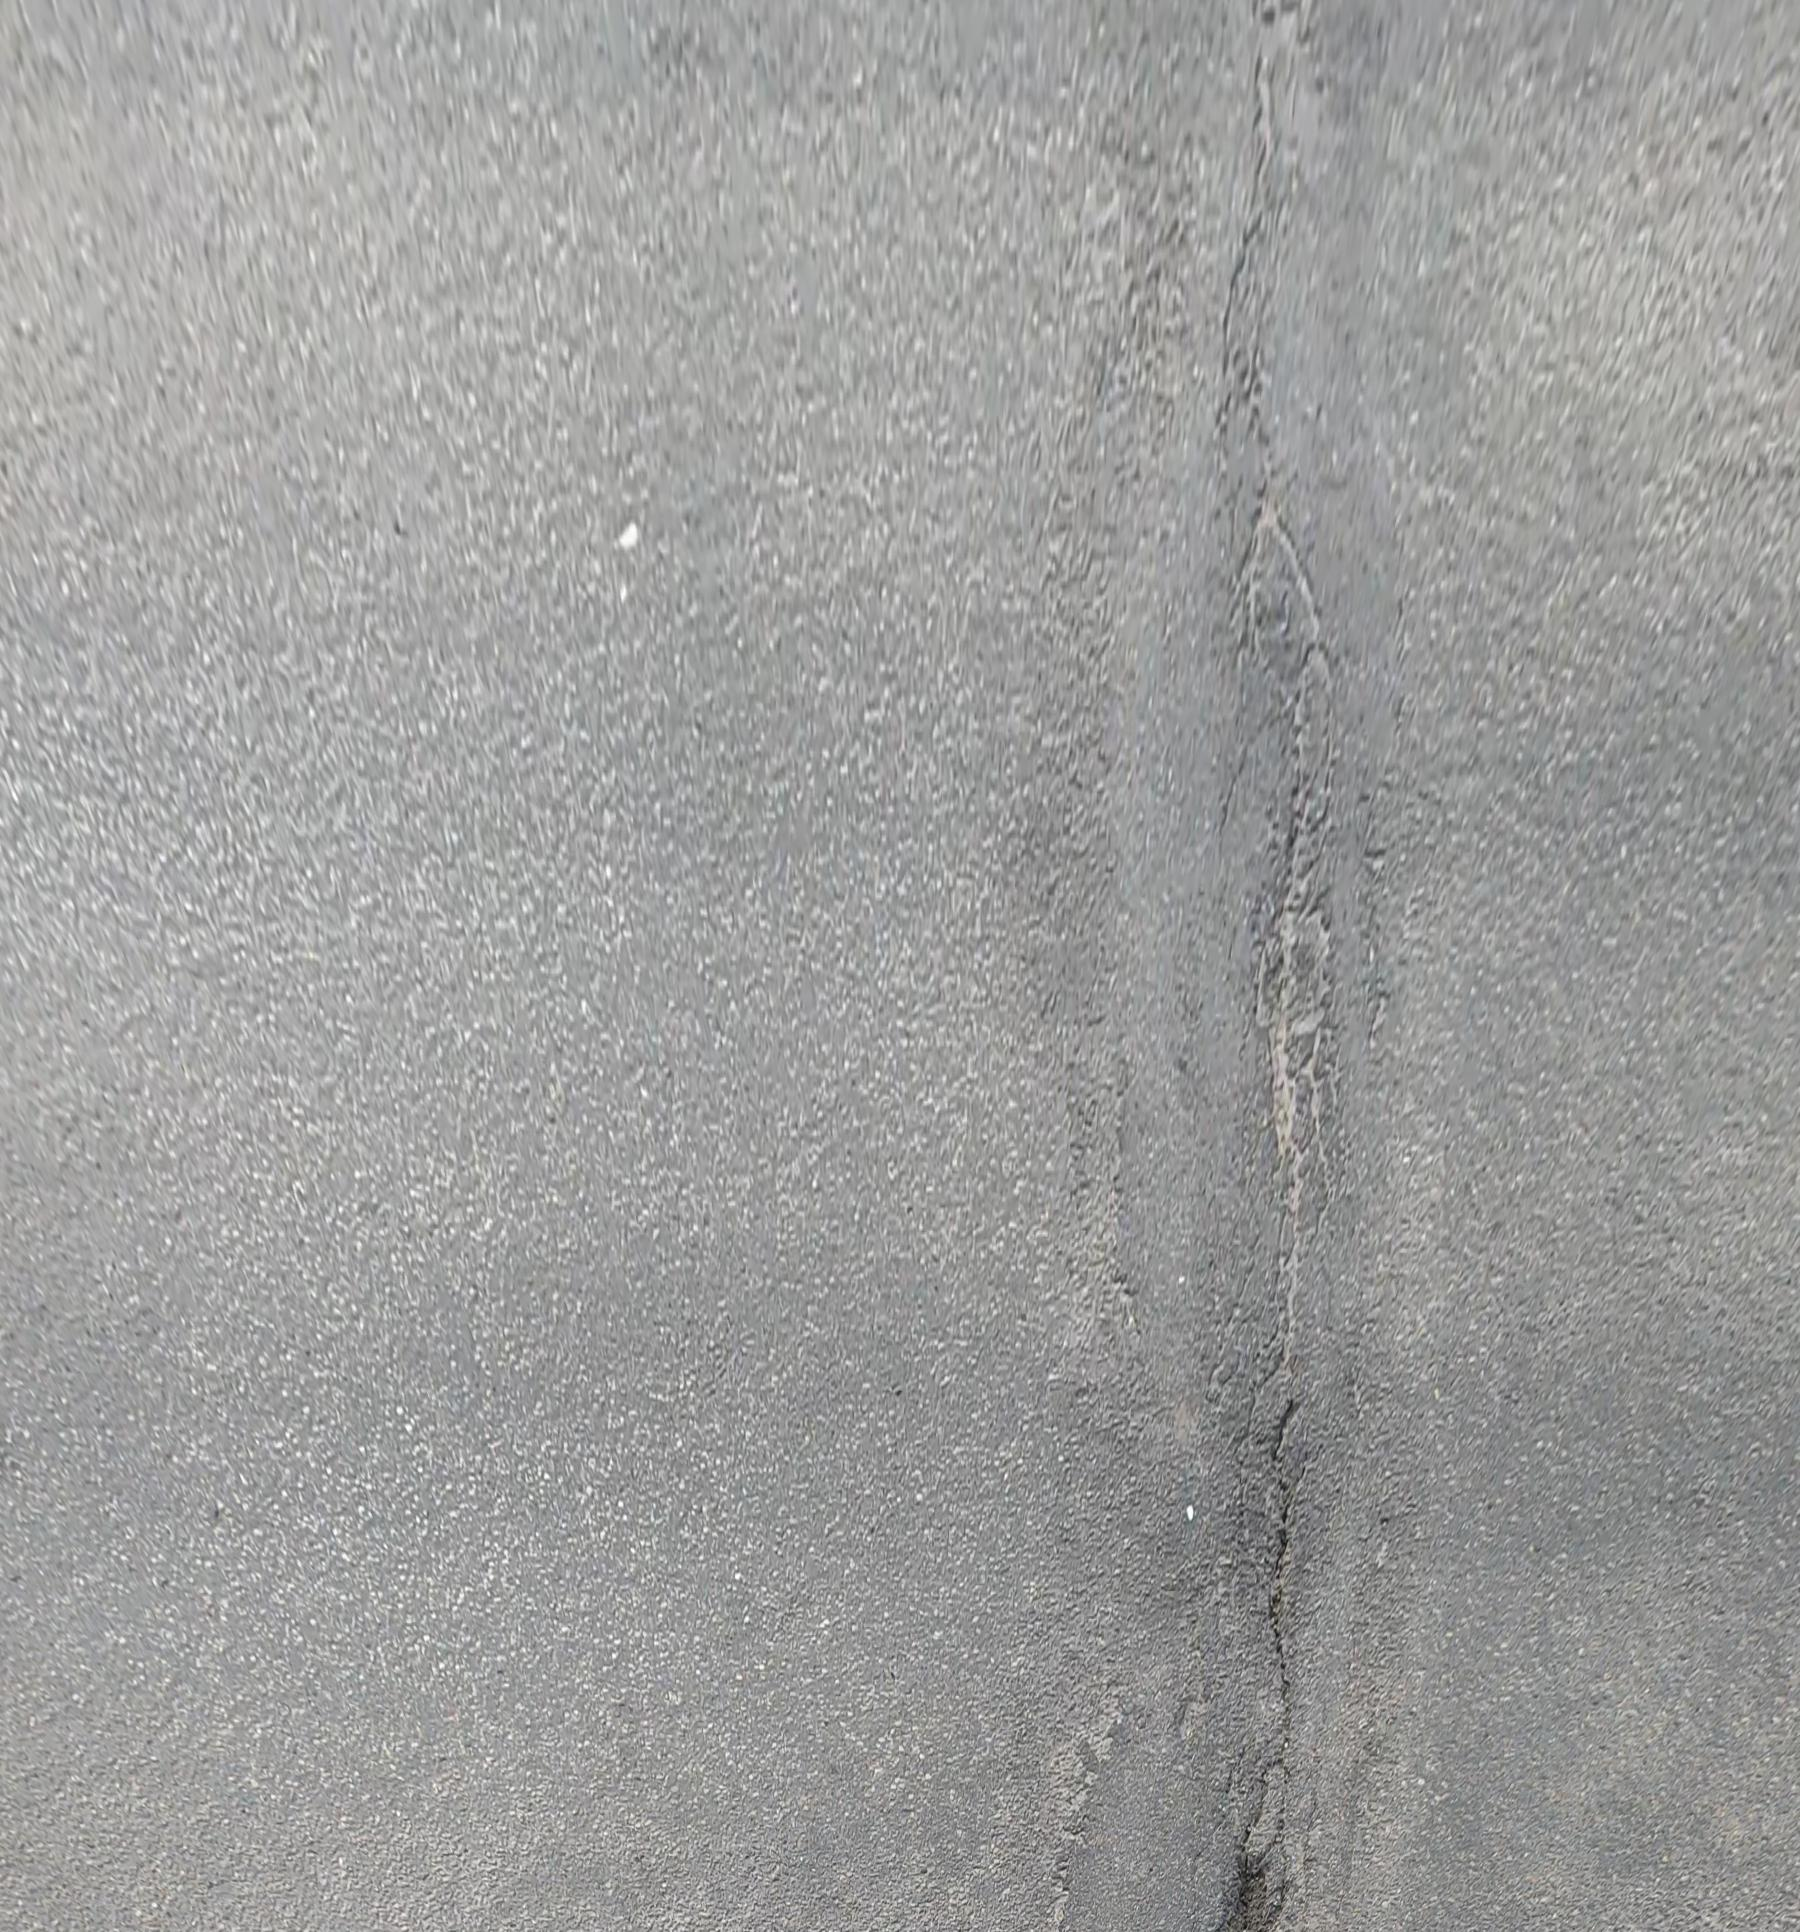pothole: (1215, 1866, 1272, 1930)
pothole_patch_poor: (1056, 0, 1502, 1932)
